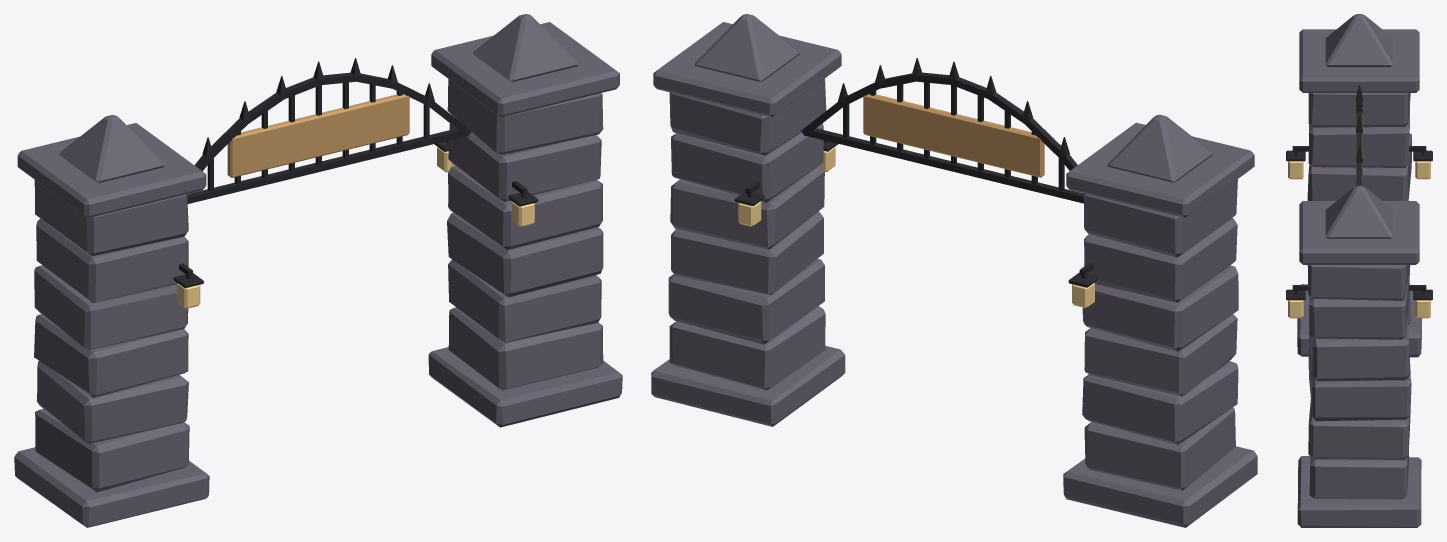
The model's file is StoneGatehouse.fbx.
The picture shows the model from 3 angles, left to right: view 1: azimuth 30°, elevation 25°; view 2: azimuth 150°, elevation 25°; view 3: azimuth 270°, elevation 25°; orthographic projection. The views are drawn at different scales.
Visible parts, largest first — view 1: Stone, Iron, Sign, Lamp; view 2: Stone, Iron, Sign, Lamp; view 3: Stone, Iron, Lamp.
Boxes of the visible parts, x1=… form: Stone: x1=14, y1=14, x2=622, y2=527; Iron: x1=173, y1=58, x2=538, y2=288; Sign: x1=227, y1=94, x2=409, y2=177; Lamp: x1=177, y1=147, x2=534, y2=308; Stone: x1=651, y1=14, x2=1257, y2=527; Iron: x1=734, y1=58, x2=1098, y2=287; Sign: x1=863, y1=94, x2=1044, y2=177; Lamp: x1=738, y1=147, x2=1094, y2=308; Stone: x1=1297, y1=14, x2=1421, y2=527; Iron: x1=1286, y1=85, x2=1432, y2=300; Lamp: x1=1288, y1=161, x2=1430, y2=318.
Size of the model in its own units: 30.03 by 20.05 by 8.3.
